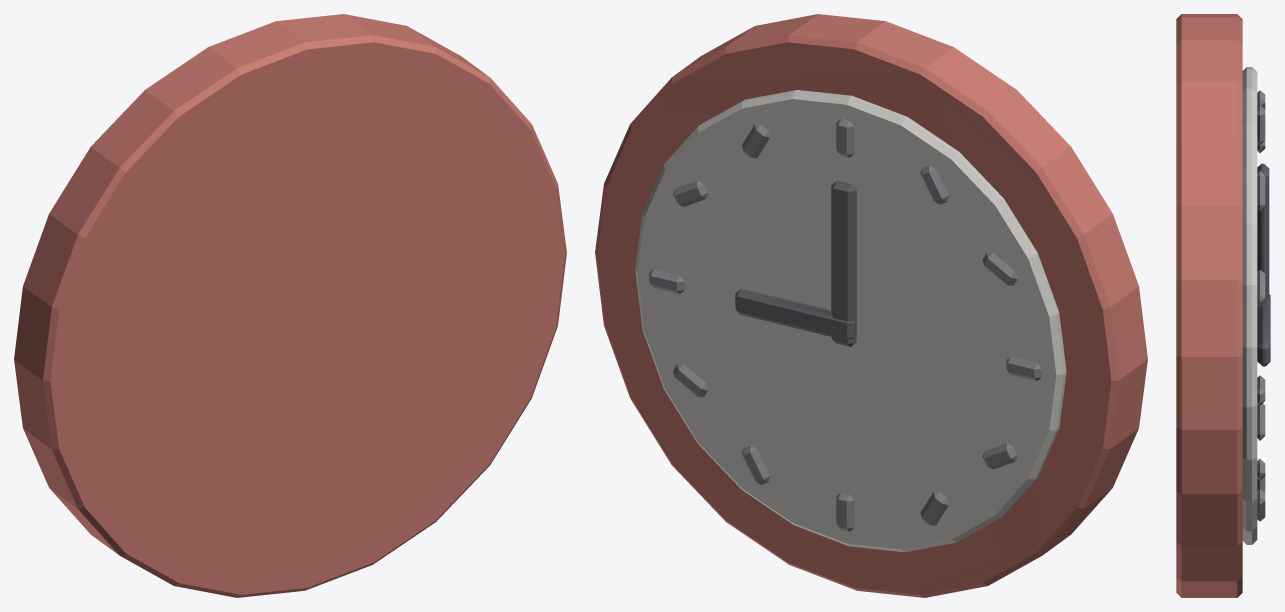
File: furn_wall_clock__red.glb
3 renders of one model, left to right at view 1: azimuth 30°, elevation 25°; view 2: azimuth 150°, elevation 25°; view 3: azimuth 270°, elevation 25°, orthographic. The views are drawn at different scales.
Bounding box in the file's own units: 0.44 × 0.44 × 0.071.
